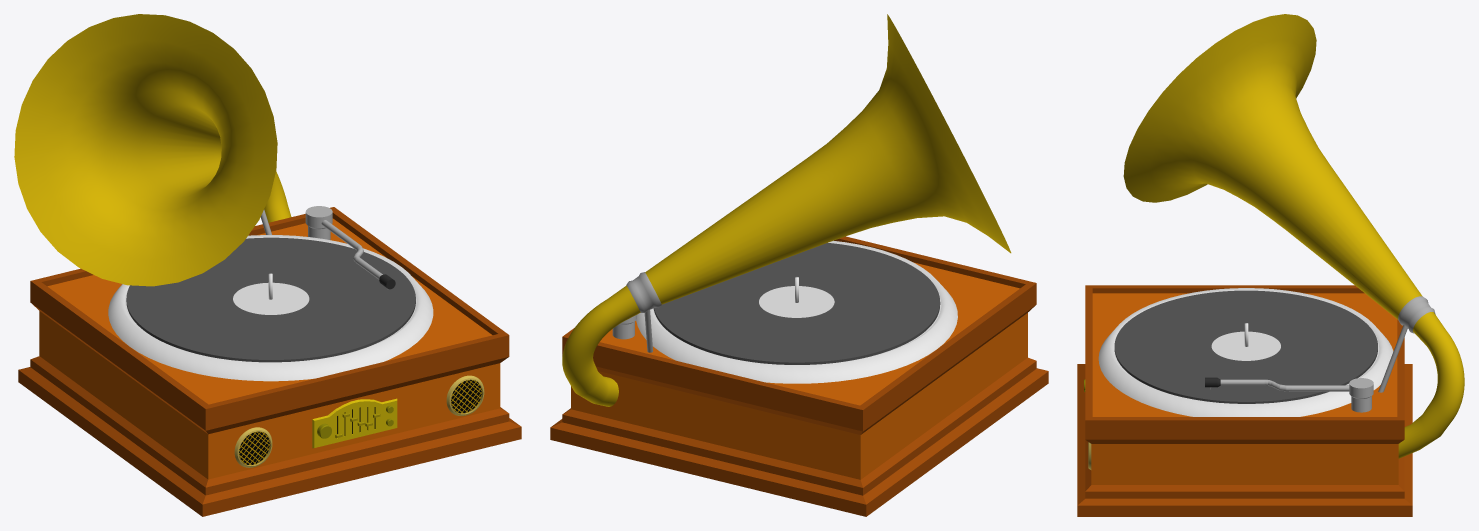
The model's file is Record Player.fbx.
The picture shows the model from 3 angles, left to right: view 1: azimuth 30°, elevation 25°; view 2: azimuth 150°, elevation 25°; view 3: azimuth 270°, elevation 25°; orthographic projection. The views are drawn at different scales.
Parts seen in each view (by area): view 1: Cube, Elbow Pipe Large Mouth, Cylinder.012, Cylinder, Cube.002, Cylinder.011, Cylinder.005, Cylinder.004, Cylinder.003; view 2: Cube, Elbow Pipe Large Mouth, Cylinder.012, Cylinder, Elbow Pipe Large Mouth.001; view 3: Cube, Elbow Pipe Large Mouth, Cylinder.012, Cylinder, Cylinder.004, Cylinder.003, Elbow Pipe Large Mouth.001.
Part boxes in pixels (bbox=[...]): Cube: bbox=[18, 207, 521, 516]; Elbow Pipe Large Mouth: bbox=[14, 14, 291, 286]; Cylinder.012: bbox=[126, 237, 415, 362]; Cylinder: bbox=[108, 235, 433, 381]; Cube.002: bbox=[312, 398, 397, 448]; Cylinder.011: bbox=[446, 375, 484, 415]; Cylinder.005: bbox=[234, 427, 272, 467]; Cylinder.004: bbox=[321, 220, 395, 289]; Cylinder.003: bbox=[305, 206, 332, 239]; Cube: bbox=[550, 236, 1048, 516]; Elbow Pipe Large Mouth: bbox=[562, 14, 1011, 406]; Cylinder.012: bbox=[653, 243, 940, 364]; Cylinder: bbox=[636, 240, 957, 383]; Elbow Pipe Large Mouth.001: bbox=[626, 272, 661, 312]; Cube: bbox=[1077, 285, 1412, 516]; Elbow Pipe Large Mouth: bbox=[1123, 14, 1464, 458]; Cylinder.012: bbox=[1114, 290, 1377, 403]; Cylinder: bbox=[1098, 288, 1393, 416]; Cylinder.004: bbox=[1205, 377, 1349, 391]; Cylinder.003: bbox=[1349, 378, 1373, 412]; Elbow Pipe Large Mouth.001: bbox=[1398, 296, 1435, 333].
Bounding box in the file's own units: 432 × 447 × 413.
